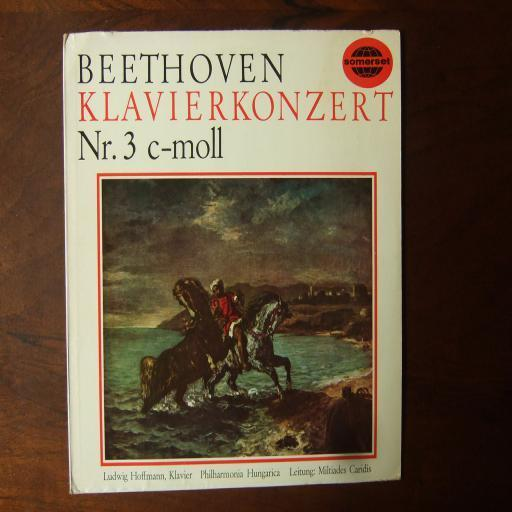horse: (138, 280, 230, 413), (202, 290, 295, 402)
